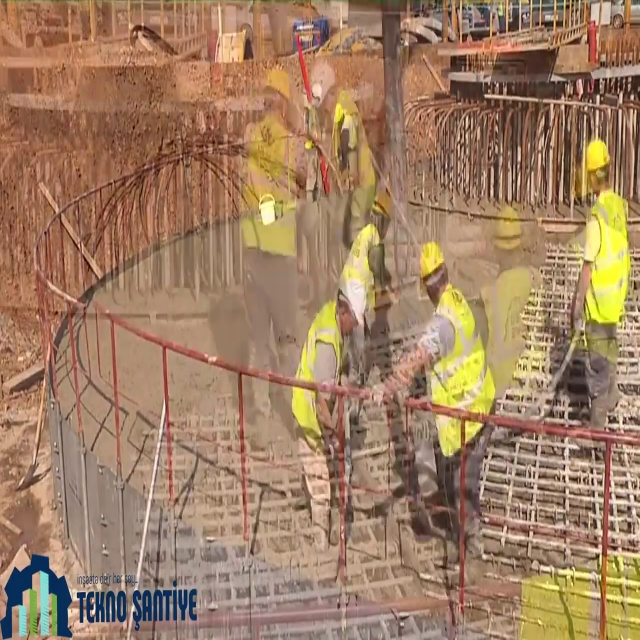safety_helmet: (572, 139, 611, 199), (492, 204, 522, 250), (419, 241, 445, 278), (265, 67, 291, 101), (583, 139, 610, 171), (258, 193, 283, 226), (371, 187, 393, 219), (258, 193, 277, 226)
